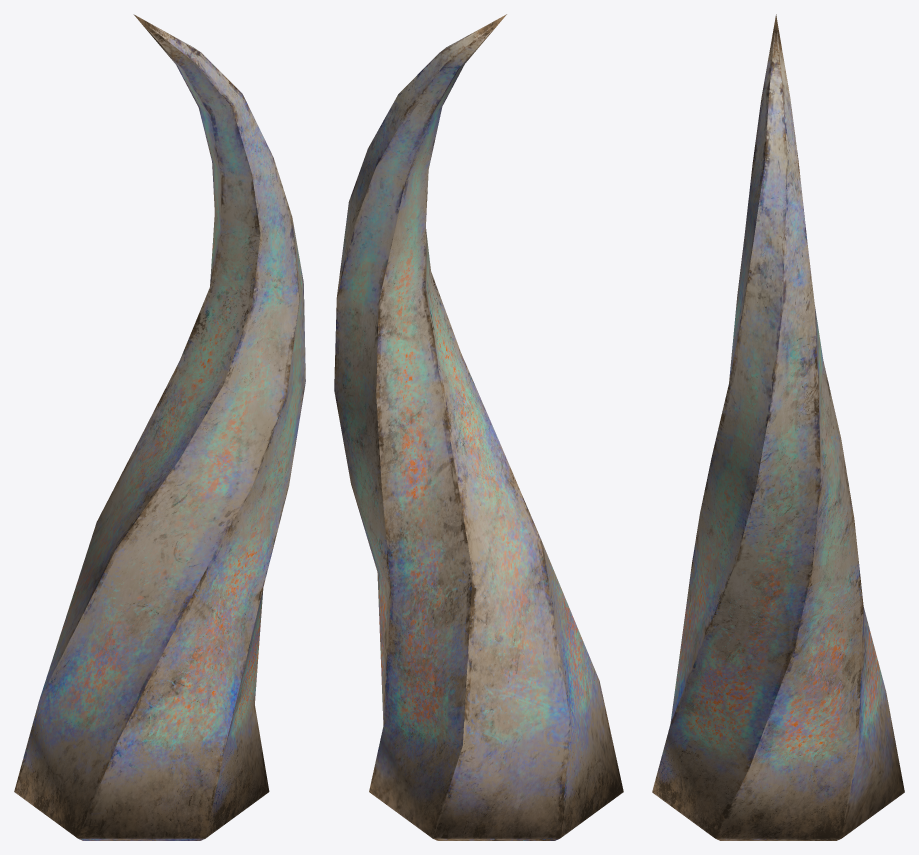
Rendered from SbS_LDK_Dec_Horn.fbx.
The picture shows the model from 3 angles, left to right: view 1: azimuth 30°, elevation 25°; view 2: azimuth 150°, elevation 25°; view 3: azimuth 270°, elevation 25°; orthographic projection.
Parts seen in each view (by area): view 1: LDK_Dec_Horn; view 2: LDK_Dec_Horn; view 3: LDK_Dec_Horn.
Part boxes in pixels (<box>): LDK_Dec_Horn: <box>14,14,305,840</box>; LDK_Dec_Horn: <box>334,14,623,840</box>; LDK_Dec_Horn: <box>652,14,904,840</box>.
Size of the model in its own units: 230 by 680 by 200.
